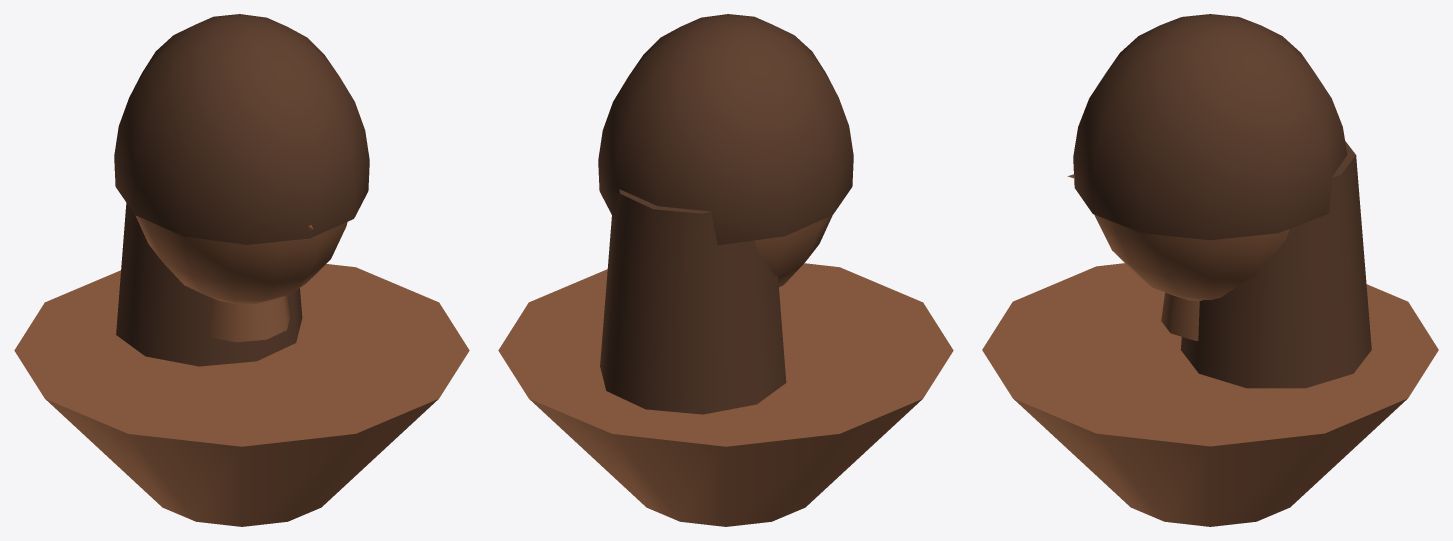
Rendered from portrait09w_001.glb.
3 renders of one model, left to right at view 1: azimuth 30°, elevation 25°; view 2: azimuth 150°, elevation 25°; view 3: azimuth 270°, elevation 25°, orthographic.
Size of the model in its own units: 1.94 by 2.18 by 1.94.
